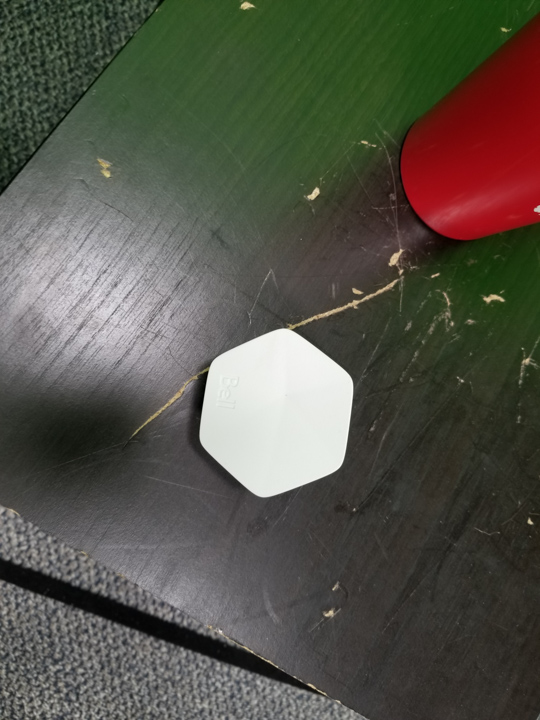pod: (189, 322, 359, 504)
